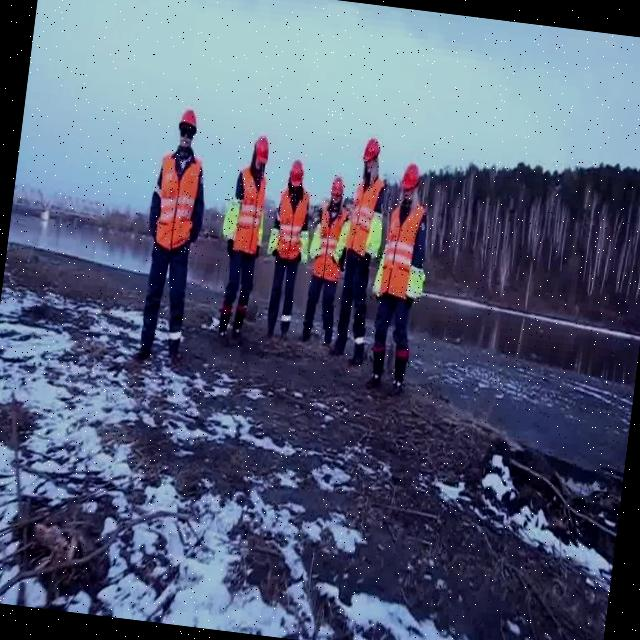helmet: (150, 148, 202, 254), (288, 156, 310, 188), (362, 134, 382, 168), (250, 134, 271, 164), (402, 158, 422, 189), (179, 104, 199, 134), (331, 175, 347, 197)
vest: (376, 198, 426, 302), (342, 176, 387, 262), (270, 186, 310, 263), (231, 171, 266, 256), (311, 202, 348, 279), (364, 198, 384, 258), (222, 194, 242, 242), (332, 218, 350, 266), (404, 261, 424, 304), (370, 253, 386, 300), (306, 224, 322, 265), (298, 226, 312, 258), (267, 224, 279, 258)
